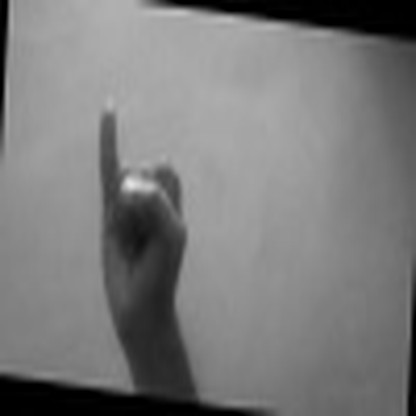i: (89, 93, 219, 375)
